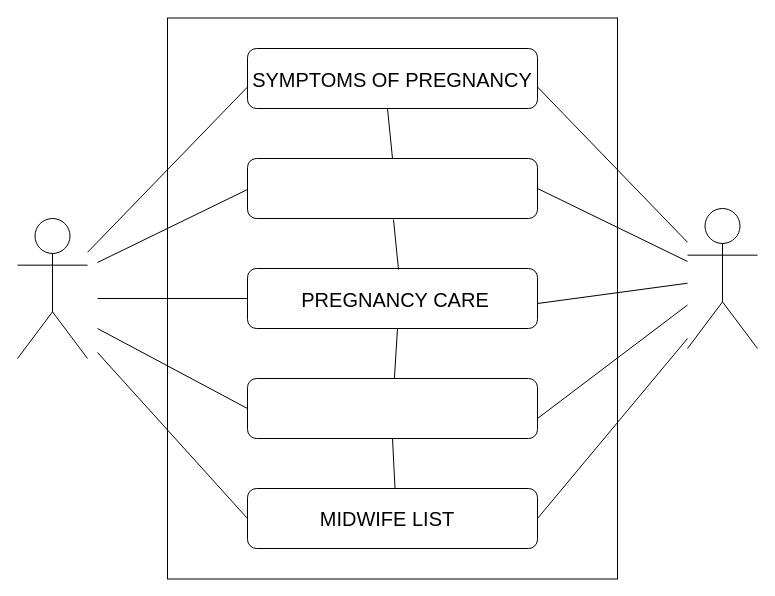
Some shapes in this 775 by 596 pixel diagram are drawn without their labels. The shapes that lost their labels are listed below. From the top down, each one's centre as x and y in pixels, then its label:
At point (392, 188): "STAGES OF PREGNANCY".
At point (392, 408): "DOCTORS LIST".
